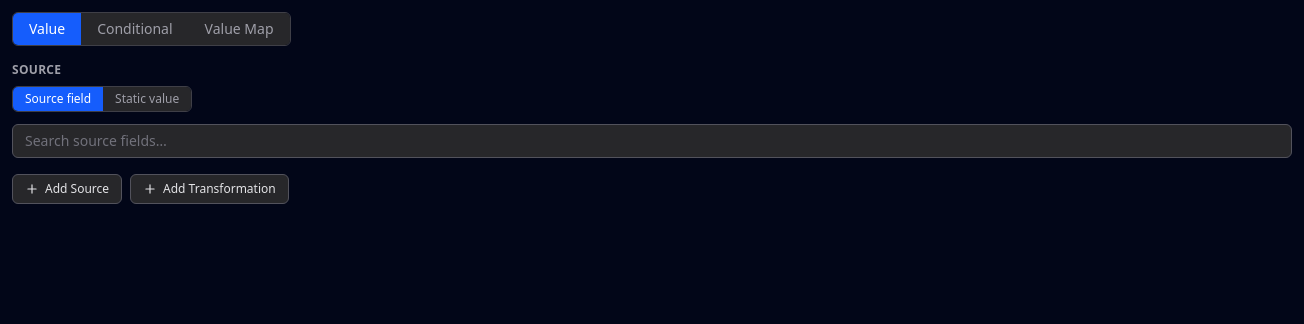
Test: UnifiedExpressionBuilder — source chip picker › clicking a suggestion adds it as a chip
Click the dropdown with test id "source-search-input": (652, 141) [12,124,1292,158]
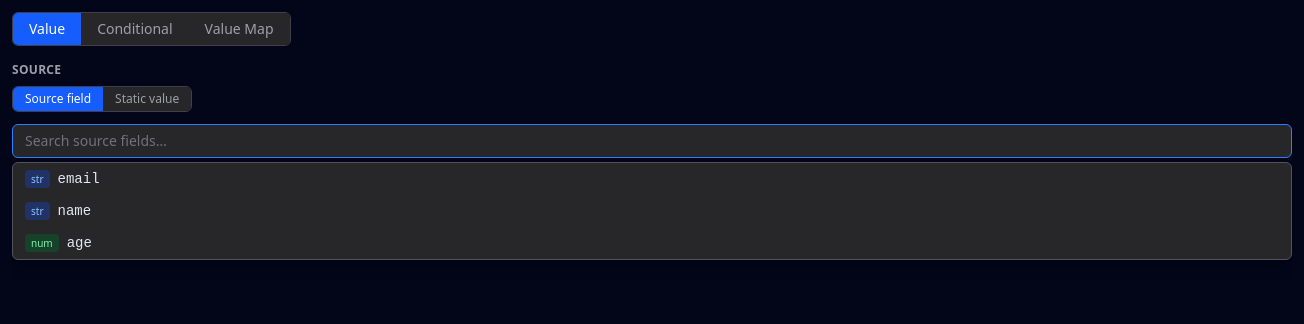
Click the button with test id "suggestion-email": (79, 179) [13,163,1291,195]
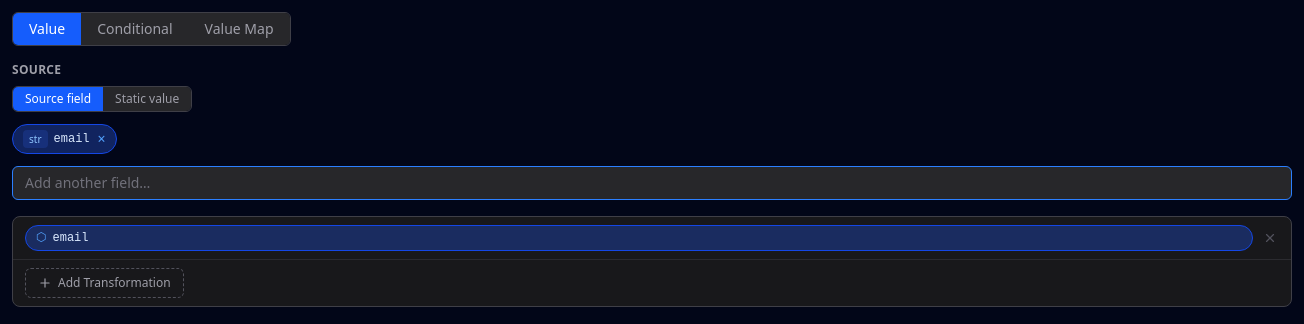
Now the element with test id "selected-sources" is shown, box [12,124,117,154]
Now the text "email" next to "str" is shown, box [54,132,90,146]
